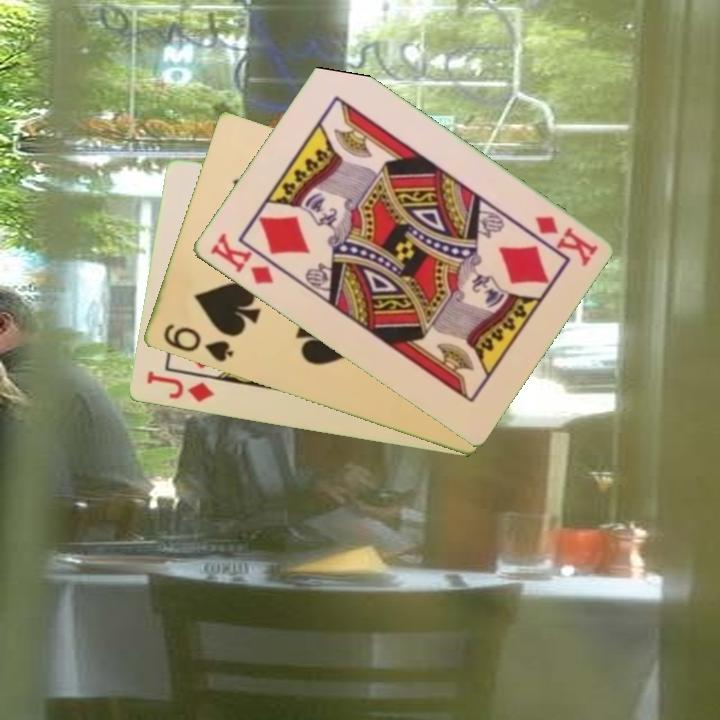6s: (159, 320, 236, 366)
Jd: (142, 368, 217, 406)
Kd: (206, 229, 277, 287), (530, 212, 601, 269)
